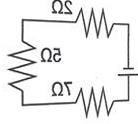resistor: (5, 39, 36, 91), (74, 83, 119, 117), (74, 8, 123, 36)
